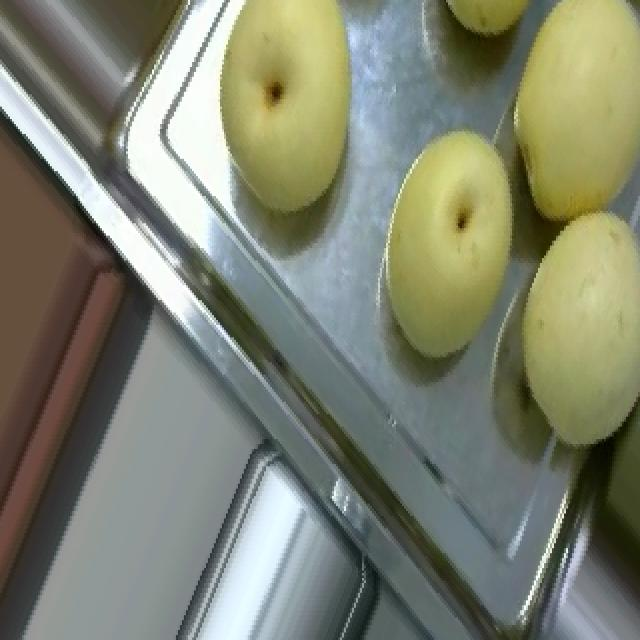Fruit: (358, 106, 554, 380), (2, 74, 154, 410), (474, 186, 640, 466), (182, 0, 374, 228), (476, 0, 640, 248)
